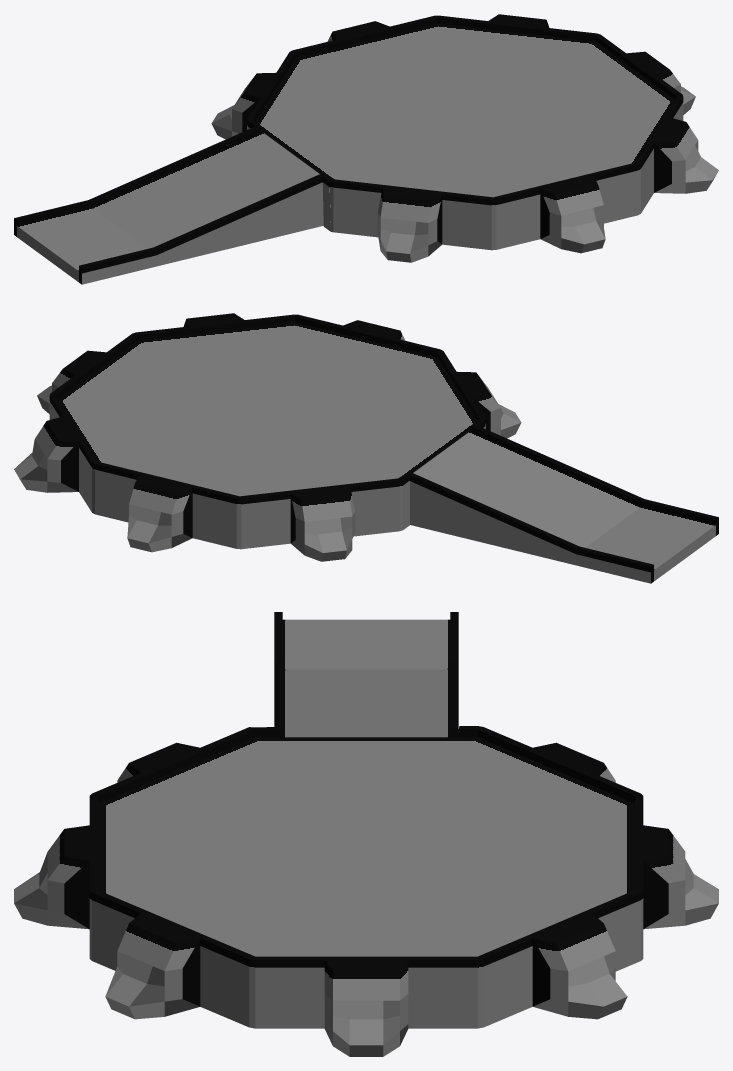
Rendered from landingpad.gltf.
3 renders of one model, top to bottom at view 1: azimuth 30°, elevation 25°; view 2: azimuth 150°, elevation 25°; view 3: azimuth 270°, elevation 25°, orthographic. The views are drawn at different scales.
Visible parts, largest first — view 1: cuboid -col (×8); view 2: cuboid -col (×8); view 3: cuboid -col (×8).
Boxes of the visible parts, box(x1,y1,x2,y2) form: cuboid -col (×8): box(14, 14, 718, 284); cuboid -col (×8): box(14, 313, 718, 583); cuboid -col (×8): box(14, 612, 718, 1056).
Bounding box in the file's own units: 12 × 0.9167 × 8.4.
Materials: 3 (1 with a texture image).
